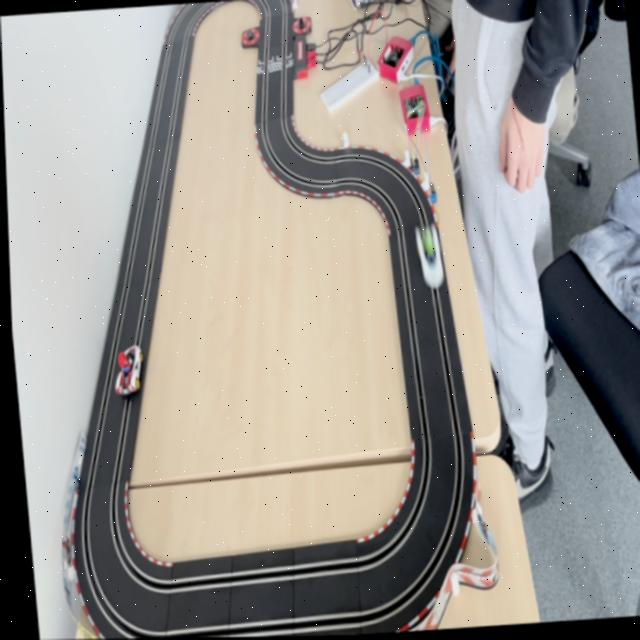mario: (107, 341, 143, 401)
yoshi: (412, 224, 441, 294)
